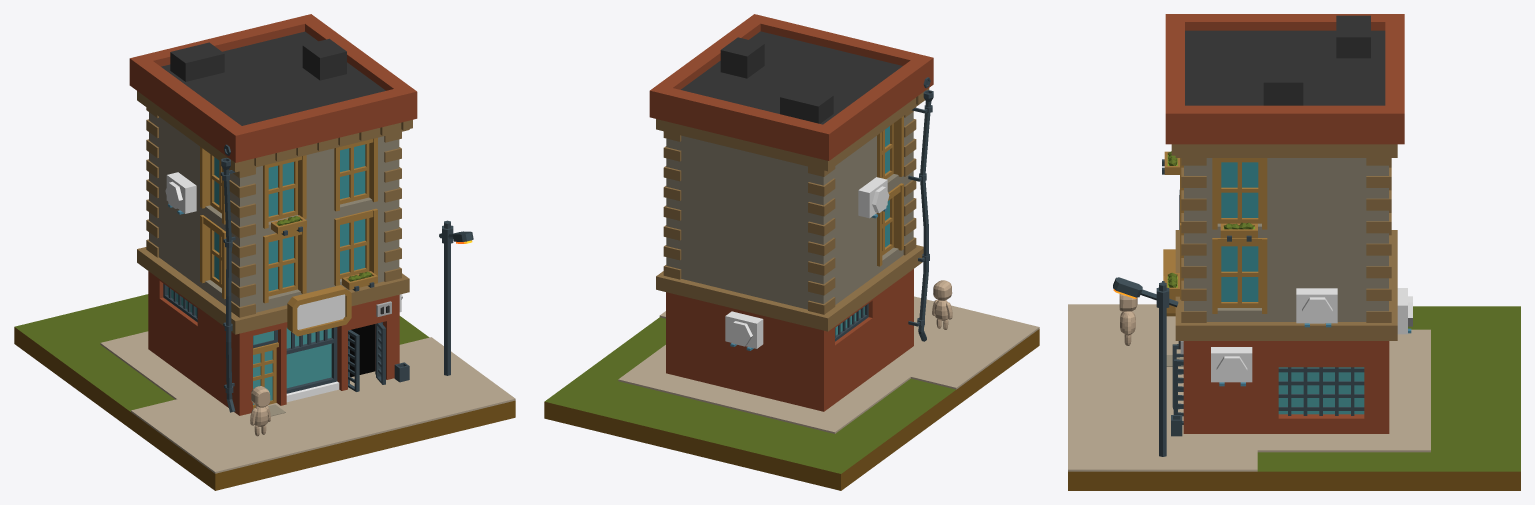
The model's file is venue-modern-11.glb.
3 renders of one model, left to right at view 1: azimuth 30°, elevation 25°; view 2: azimuth 150°, elevation 25°; view 3: azimuth 270°, elevation 25°, orthographic. The views are drawn at different scales.
Parts seen in each view (by area): view 1: Box16732, Box17369, Box17368, Box16728, Box16729, Box16710, Box16725, Box16727, Box16741, Plane1454, Box16731, Cylinder1821 (+11 smaller); view 2: Box17368, Box16732, Box16710, Box16728, Box16729, Box17369, Box16725, Box16731, Box16743, Cylinder1821, Box16742, Box16763 (+4 smaller); view 3: Box16732, Box17368, Box17369, Box16729, Box16728, Box16710, Box16725, Box16731, Box16740, Box16742, Plane1455, Box16716 (+6 smaller).
Part boxes in pixels (x1,y1,x2,y2): Box16732: (129,14,417,162); Box17369: (100,331,515,473); Box17368: (14,294,515,490); Box16728: (149,175,399,312); Box16729: (149,112,399,241); Box16710: (148,271,399,415); Box16725: (137,247,409,334); Box16727: (287,285,351,336); Box16741: (229,167,255,317); Plane1454: (286,328,331,388); Box16731: (137,91,409,172); Cylinder1821: (220,144,235,412); Box17368: (544,317,1039,490); Box16732: (649,14,933,160); Box16710: (666,269,913,411); Box16728: (666,174,913,309); Box16729: (666,112,913,239); Box17369: (618,296,1039,433); Box16725: (656,245,923,331); Box16731: (656,98,924,171); Box16743: (808,166,835,314); Cylinder1821: (908,77,933,341); Box16742: (663,131,681,279); Box16763: (780,86,833,123); Box16732: (1165,14,1404,144); Box17368: (1068,306,1520,490); Box17369: (1068,304,1430,471); Box16729: (1180,158,1388,237); Box16728: (1180,215,1388,321); Box16710: (1183,341,1389,433); Box16725: (1175,230,1397,340); Box16731: (1175,144,1397,157); Box16740: (1181,158,1206,322); Box16742: (1366,158,1391,322); Plane1455: (1278,367,1364,414); Box16716: (1278,367,1364,415).
Size of the model in its own units: 11 by 11.28 by 12.74.
